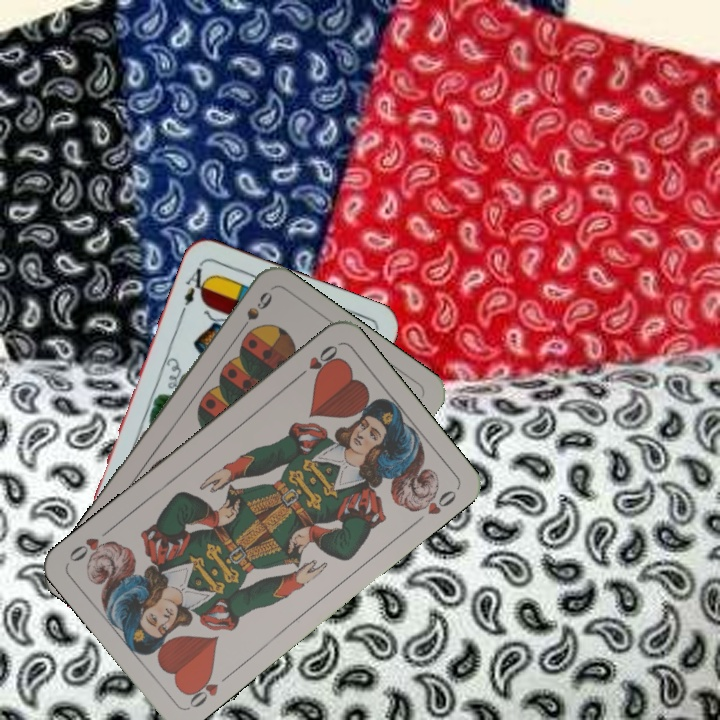EA: (176, 260, 212, 317)
HO: (181, 668, 234, 712), (291, 340, 341, 383)
S9: (233, 287, 275, 338)
